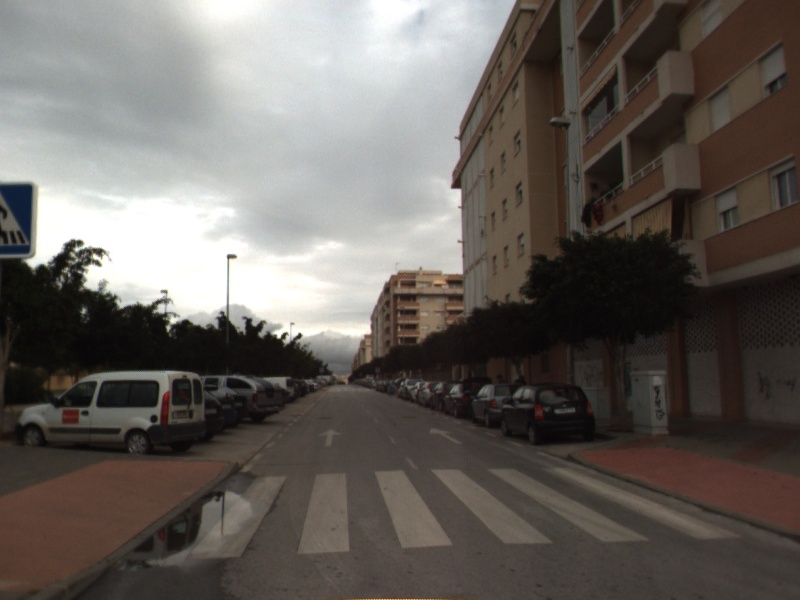STRAIGHT: (427, 426, 465, 446), (316, 427, 344, 448)
